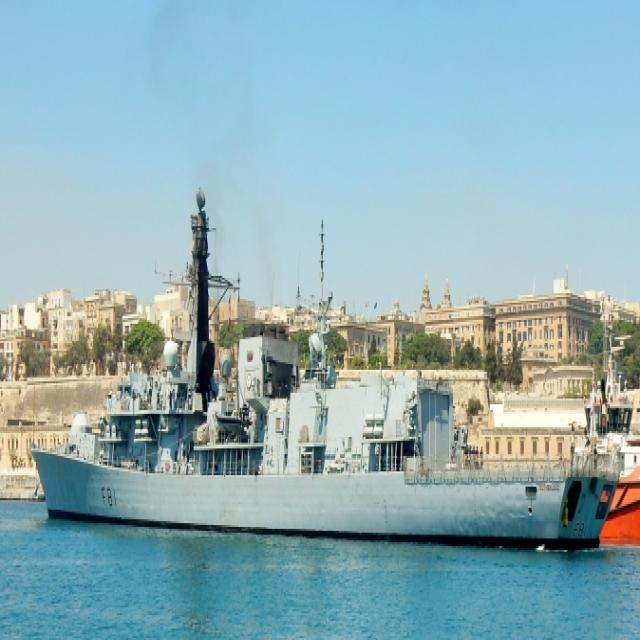Fragata: (33, 176, 617, 536)
